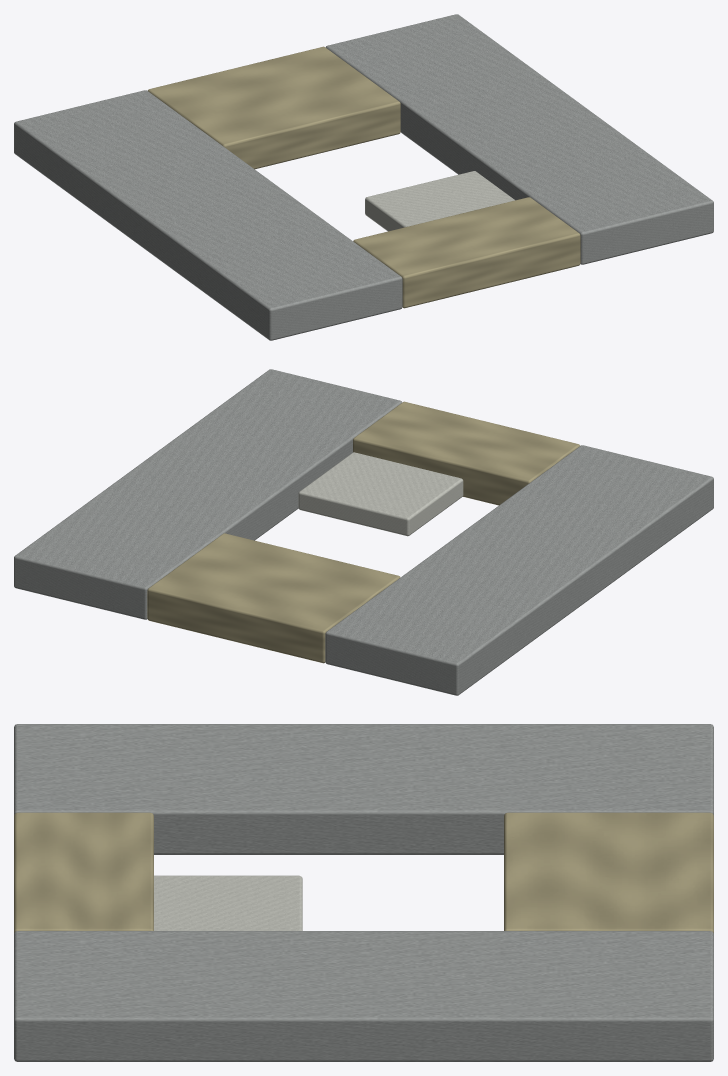
File: liminal-spaces-kit-broken-floor-drop-3a26a657__25190.glb
3 renders of one model, top to bottom at view 1: azimuth 30°, elevation 25°; view 2: azimuth 150°, elevation 25°; view 3: azimuth 270°, elevation 25°, orthographic. The views are drawn at different scales.
Parts seen in each view (by area): view 1: broken-floor-drop; view 2: broken-floor-drop; view 3: broken-floor-drop.
Boxes of the visible parts, bbox=[...] form: broken-floor-drop: bbox=[14, 14, 713, 340]; broken-floor-drop: bbox=[14, 369, 713, 695]; broken-floor-drop: bbox=[14, 724, 713, 1061].
Bounding box in the file's own units: 2 × 0.1399 × 2.
Materials: 3 (3 with a texture image).
